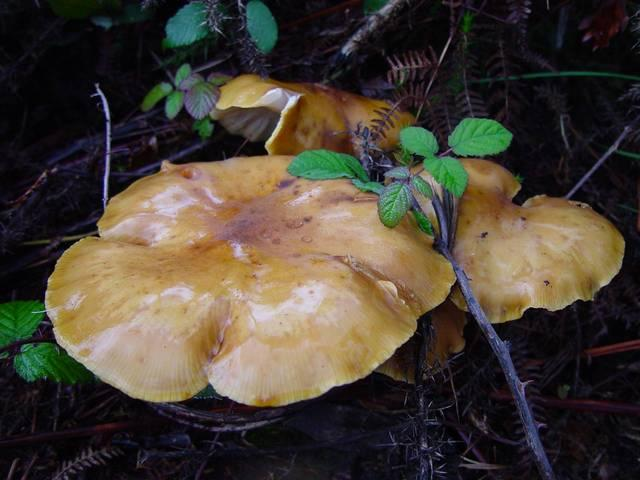Edible Mushroom: (43, 151, 458, 408), (459, 152, 628, 330), (207, 71, 424, 153)
